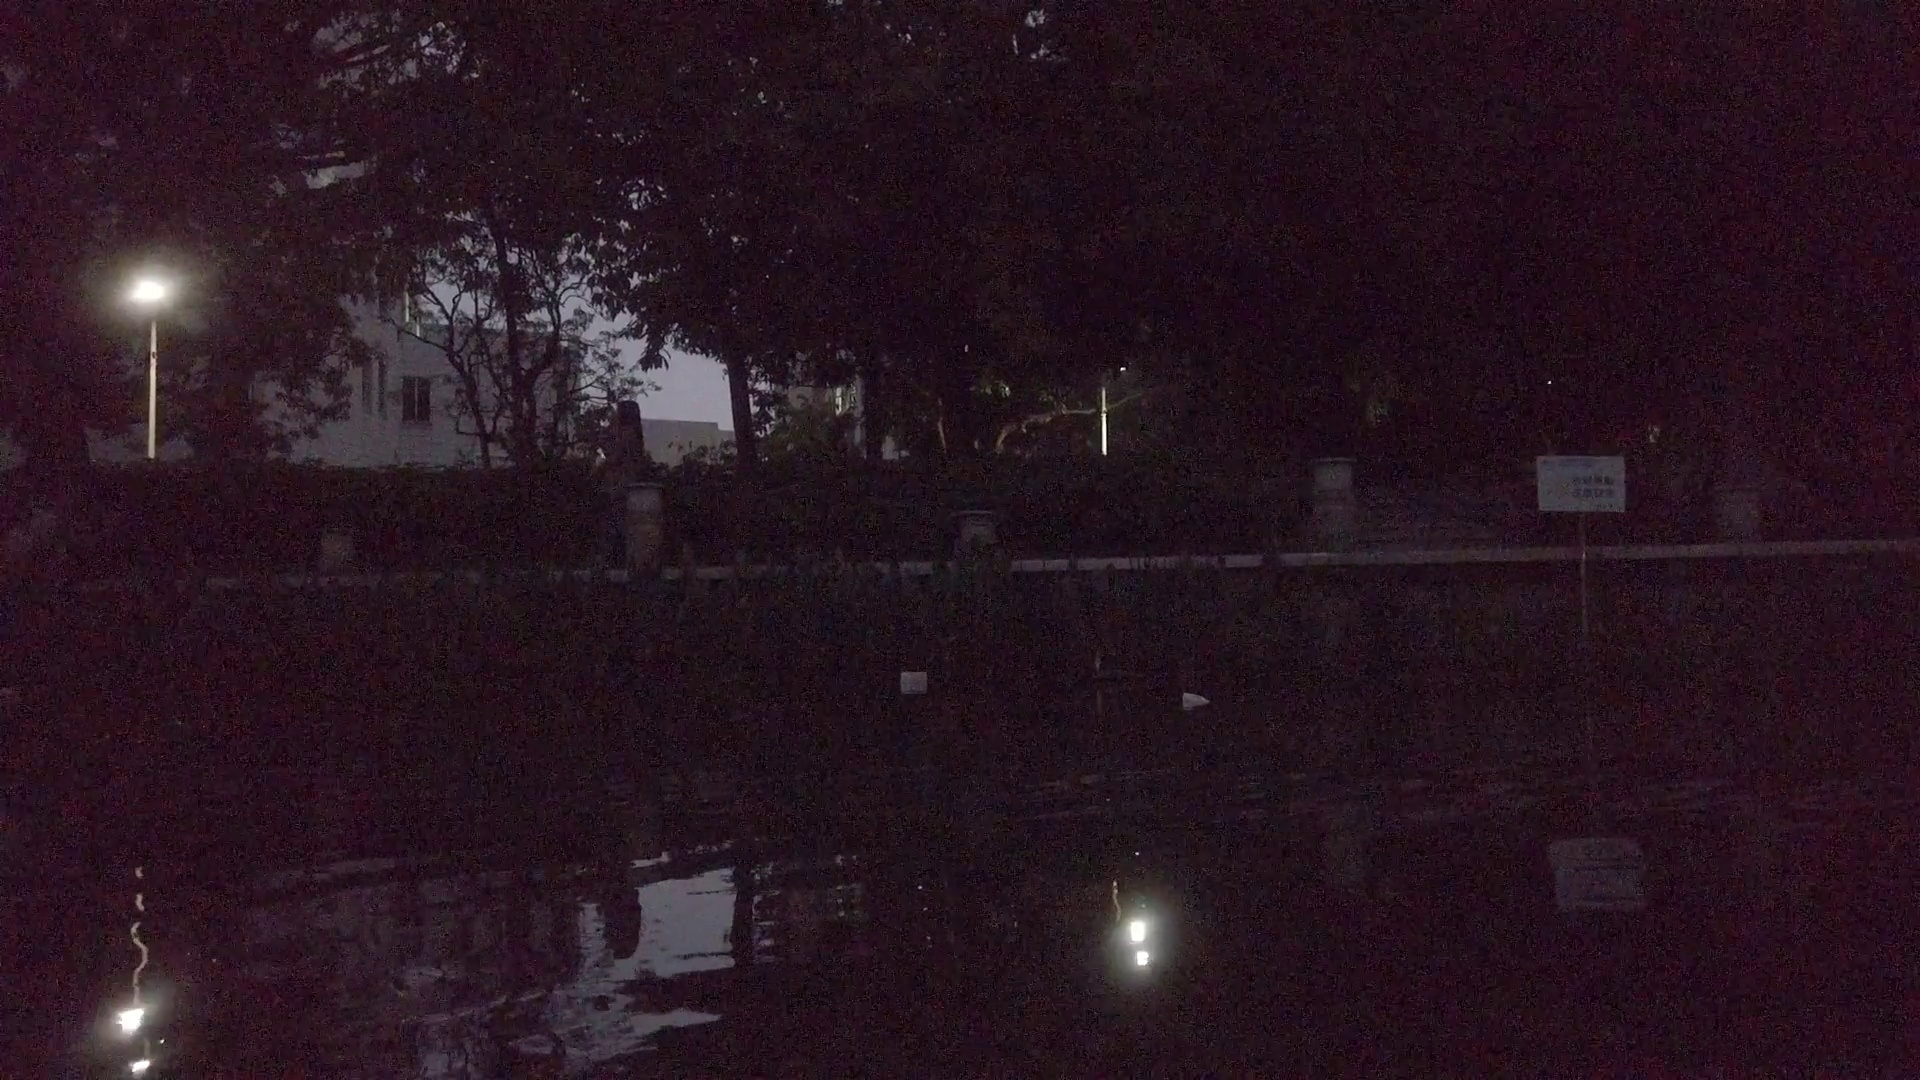carton: (899, 669, 924, 684), (1178, 692, 1203, 705)
